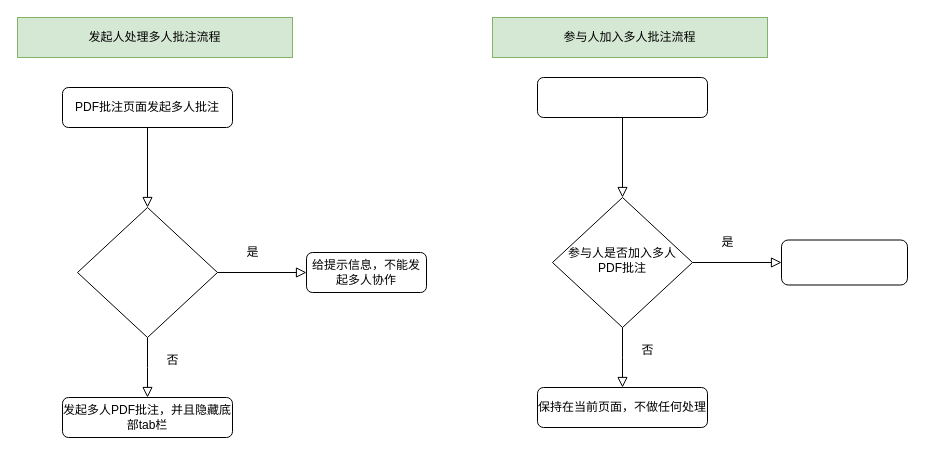
The diagram is 925 pixels wide and 455 high, and some of its shapes have lost their labels. The shapes that lost their labels are listed below. From the top down, each one's centre as x and y in pixels, then its label:
the point at 622,97: 参与人页面出现加入多人PDF批注弹框
the point at 147,272: 当前是否存在多人协作
the point at 844,262: 打开对应的PDF文件，直接加入多人批注
